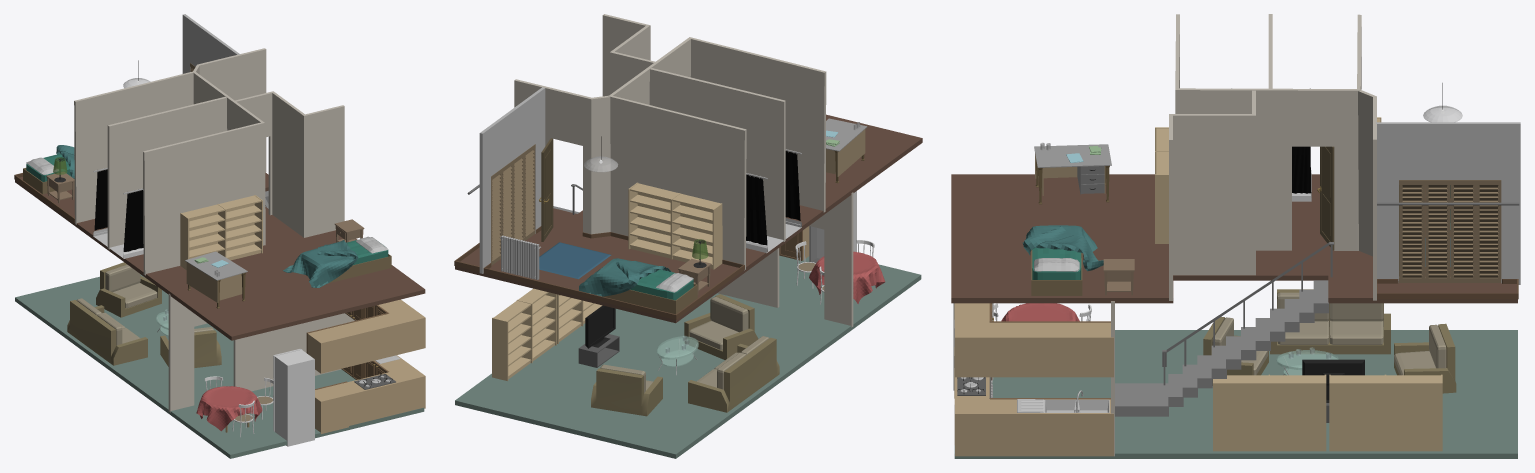
Rendered from low_poly_house_interior.glb.
3 views of the same model, side by side, from view 1: azimuth 30°, elevation 25°; view 2: azimuth 150°, elevation 25°; view 3: azimuth 270°, elevation 25° (orthographic). The views are drawn at different scales.
Visible parts, largest first — view 1: pCube54, pCube21, pCube194, pCube50, pCube16, pCube60, pCube132, pCube109 (×3), pCube144, pCube114, pCube182, pCube56 (+11 smaller); view 2: pCube194, pCube54, pCube21, pCube16, pCube109 (×3), pCube56, pCube116, pCube60, polySurface1, pCube193, pCube50, polySurface2 (+17 smaller); view 3: pCube21, pCube194, pCube54, pCube50, polySurface1, pCube132, pCube193, pCube192, pCube144, pCube109 (×3), pCube56, pCube111 (×2) (+19 smaller).
Part boxes in pixels (left/top/right/bottom): pCube54: left=74, top=71, right=265, bottom=275; pCube21: left=15, top=172, right=425, bottom=340; pCube194: left=15, top=274, right=424, bottom=458; pCube50: left=235, top=91, right=344, bottom=237; pCube16: left=107, top=96, right=227, bottom=249; pCube60: left=168, top=294, right=354, bottom=412; pCube132: left=307, top=299, right=425, bottom=373; pCube109 (×3): left=67, top=262, right=221, bottom=367; pCube144: left=315, top=355, right=425, bottom=433; pCube114: left=180, top=195, right=262, bottom=269; pCube182: left=274, top=349, right=314, bottom=446; pCube56: left=193, top=48, right=266, bottom=172; pCube194: left=455, top=255, right=921, bottom=458; pCube54: left=608, top=37, right=826, bottom=270; pCube21: left=455, top=114, right=922, bottom=323; pCube16: left=649, top=68, right=785, bottom=241; pCube109 (×3): left=591, top=294, right=779, bottom=416; pCube56: left=514, top=79, right=610, bottom=234; pCube116: left=628, top=182, right=722, bottom=269; pCube60: left=717, top=192, right=853, bottom=327; polySurface1: left=479, top=87, right=545, bottom=273; pCube193: left=492, top=288, right=556, bottom=380; pCube50: left=602, top=14, right=655, bottom=96; polySurface2: left=454, top=226, right=744, bottom=319; pCube21: left=951, top=174, right=1517, bottom=303; pCube194: left=954, top=330, right=1517, bottom=458; pCube54: left=1175, top=14, right=1361, bottom=250; pCube50: left=1169, top=90, right=1255, bottom=300; polySurface1: left=1376, top=122, right=1520, bottom=284; pCube132: left=954, top=303, right=1113, bottom=377; pCube193: left=1329, top=374, right=1442, bottom=451; pCube192: left=1213, top=374, right=1326, bottom=451; pCube144: left=954, top=347, right=1113, bottom=456; pCube109 (×3): left=1203, top=289, right=1456, bottom=393; pCube56: left=1358, top=90, right=1376, bottom=300; pCube111 (×2): left=1329, top=320, right=1435, bottom=375.
Size of the model in its own units: 4.91 by 5.86 by 9.37.
